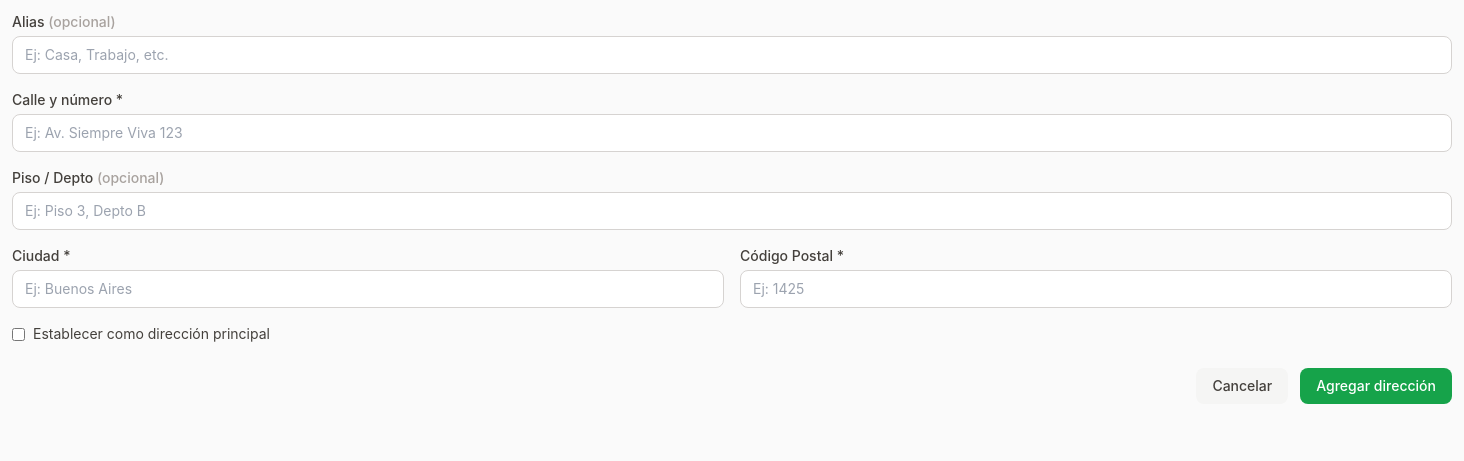
Test case: DireccionForm › should show validation errors on empty submit
Click the button "Agregar dirección" at (1376, 386), box [1300, 368, 1452, 404]
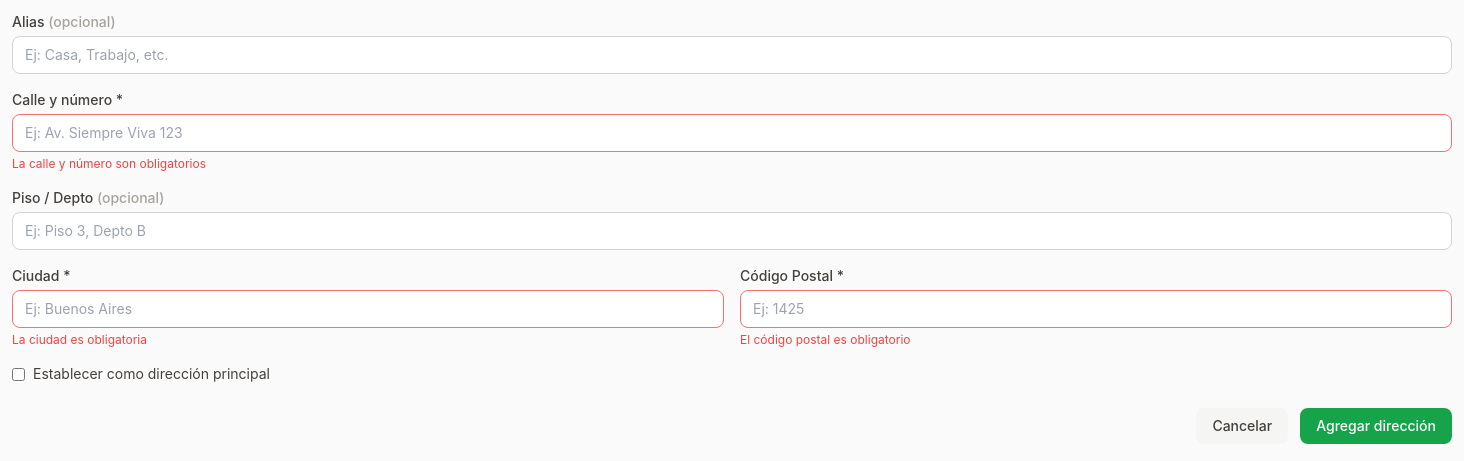
Expected: the text "La calle y número son obligatorios" is shown, [12, 156, 206, 171]
Expected: the text "La ciudad es obligatoria" is shown, [12, 332, 147, 347]
Expected: the text "El código postal es obligatorio" is shown, [740, 332, 910, 347]
